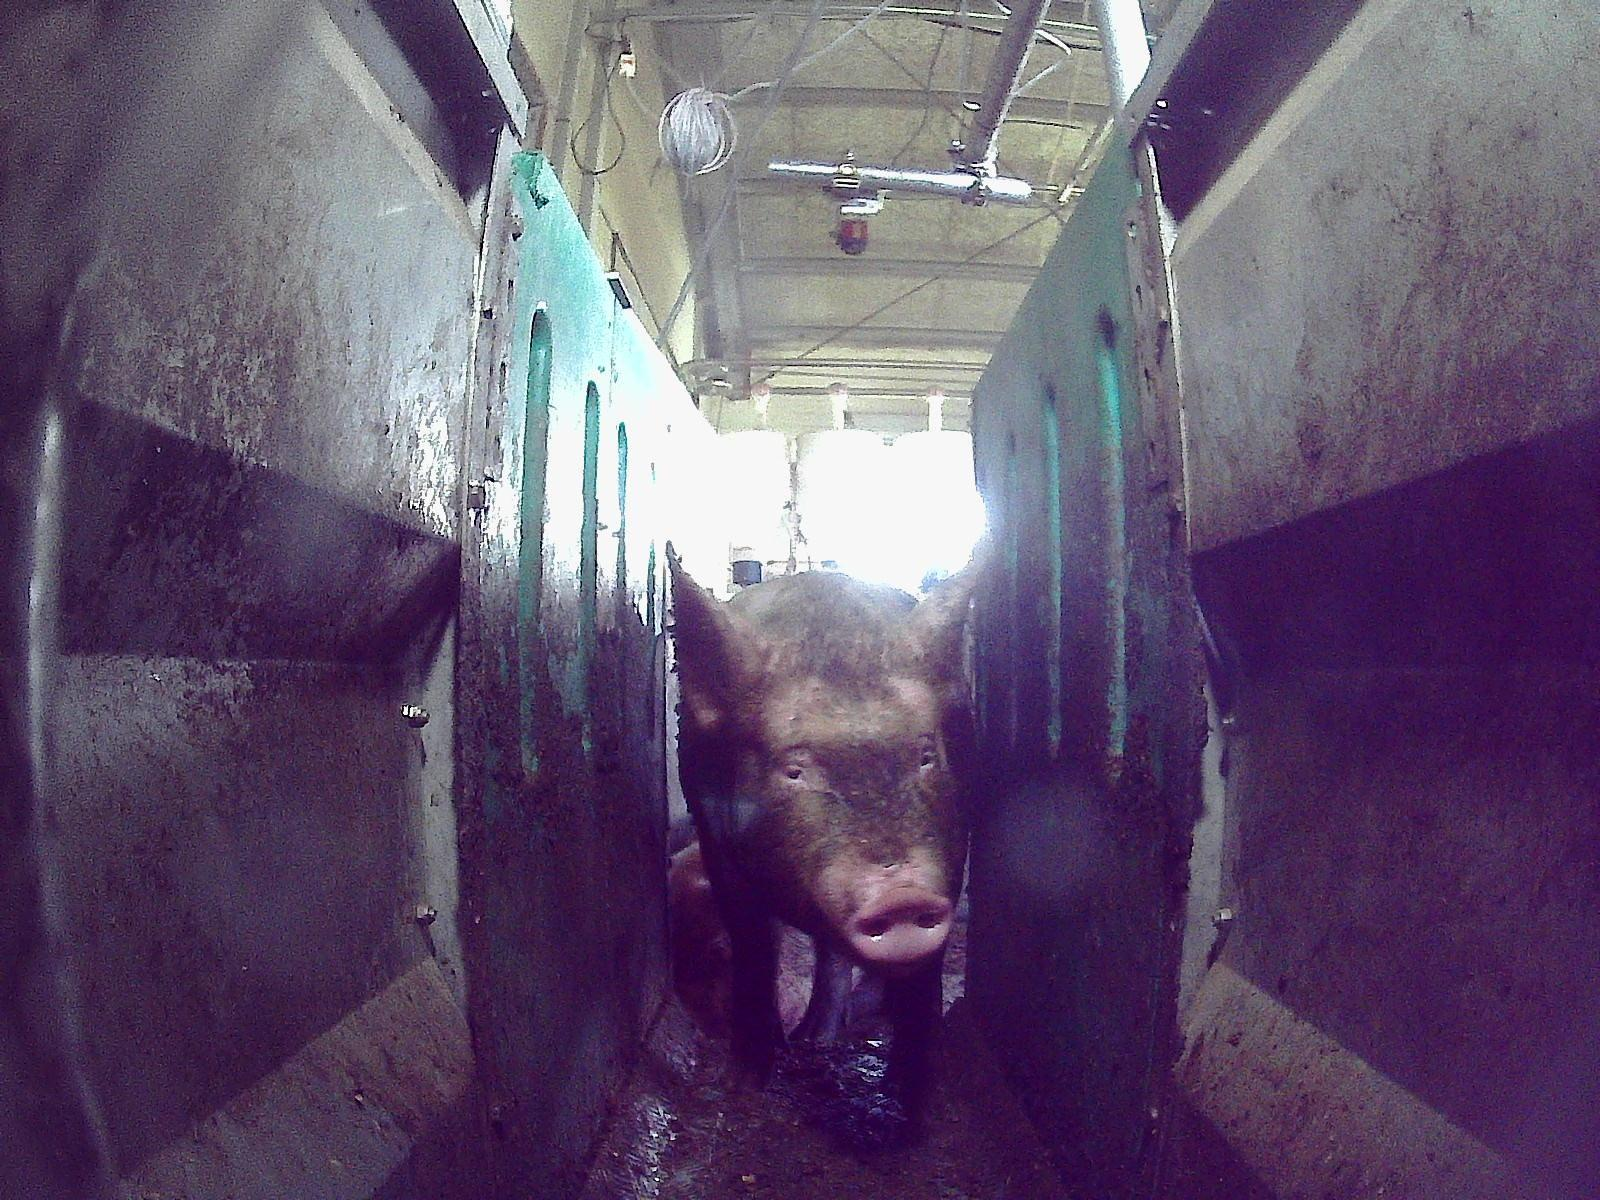Face: (721, 612, 967, 967)
